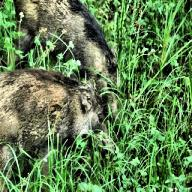boar: (0, 0, 122, 191)
